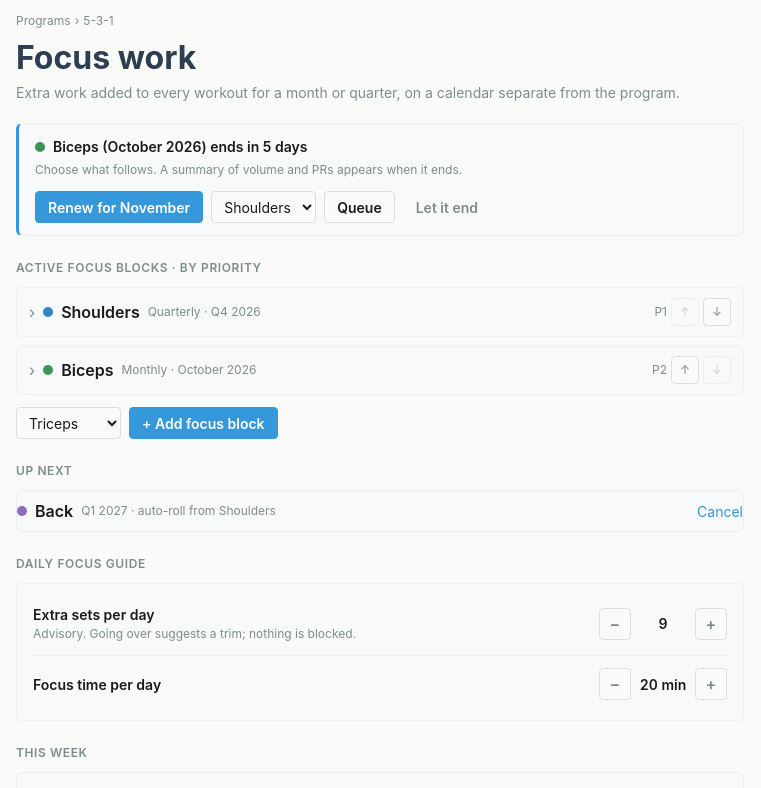
Scenario: FocusSetup › saves the daily focus guide
Step 1. Click the button named "Increase Extra sets per day" → (711, 624), box [695, 608, 727, 640]
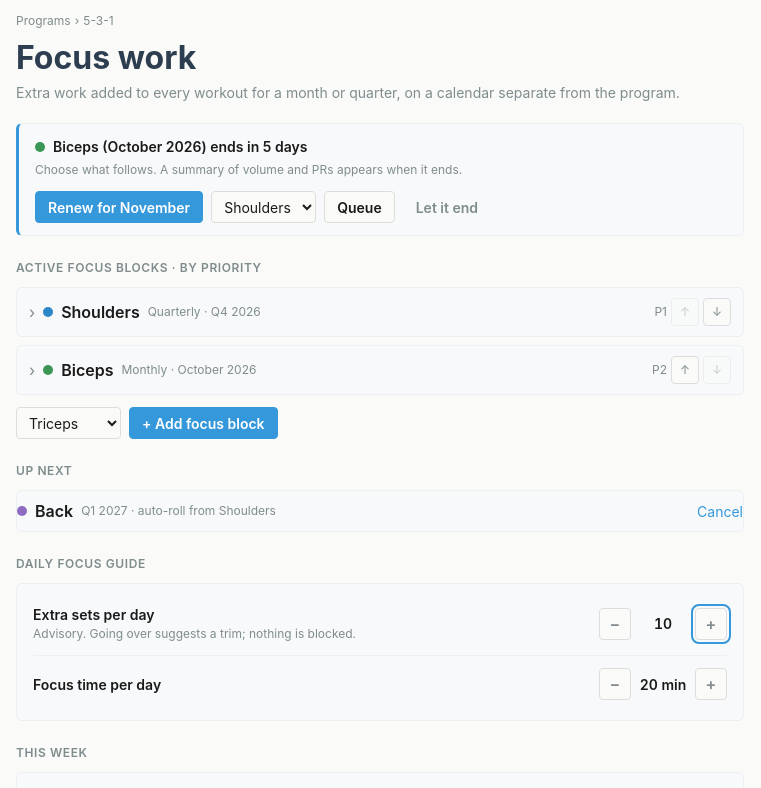
Check: the text named "Extra sets per day" reads "10", box [654, 615, 672, 632]
